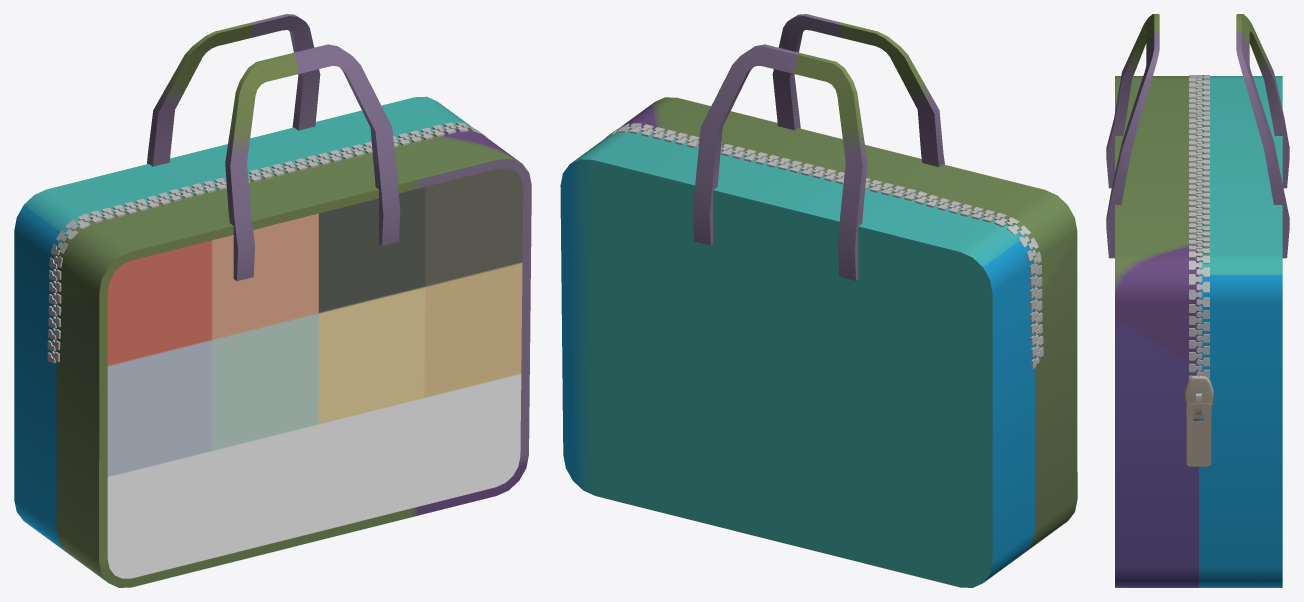
File: Emerald Carryall.fbx
The picture shows the model from 3 angles, left to right: view 1: azimuth 30°, elevation 25°; view 2: azimuth 150°, elevation 25°; view 3: azimuth 270°, elevation 25°; orthographic projection.
Visible parts, largest first — view 1: 立方体; view 2: 立方体; view 3: 立方体.
Part boxes in pixels (x1,y1,x2,y2): 立方体: [14, 14, 531, 587]; 立方体: [560, 14, 1077, 587]; 立方体: [1106, 14, 1289, 587].
Size of the model in its own units: 42.33 by 42.94 by 15.3.
